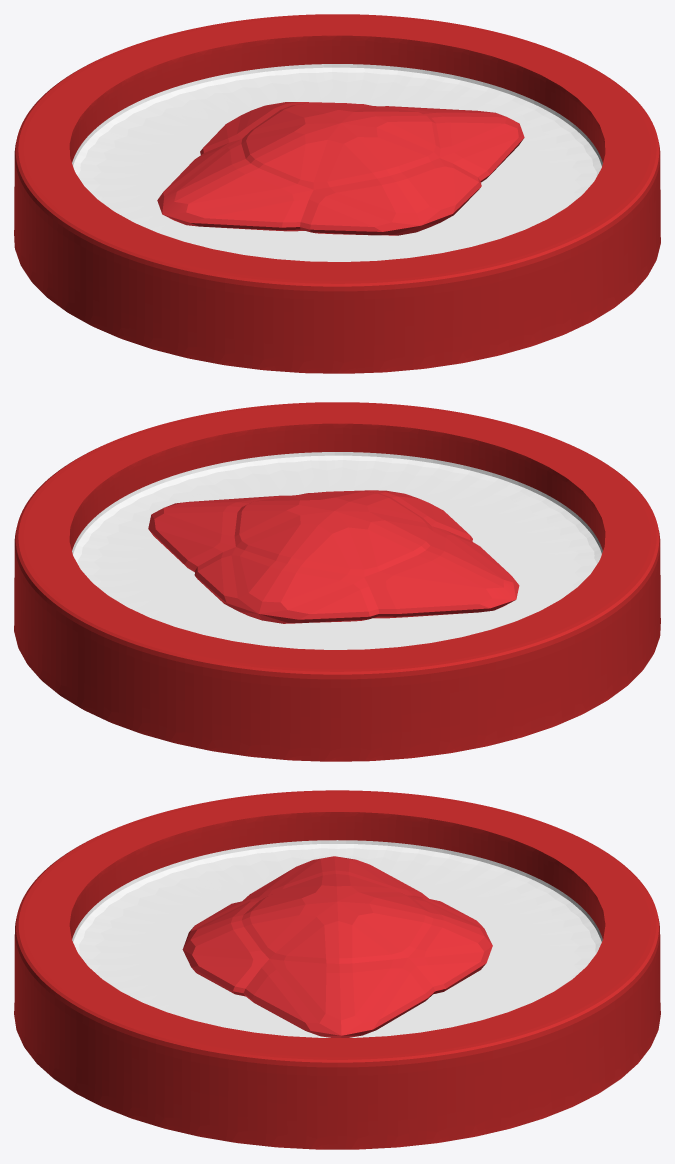
Rendered from RedToken.fbx.
The picture shows the model from 3 angles, top to bottom: view 1: azimuth 30°, elevation 25°; view 2: azimuth 150°, elevation 25°; view 3: azimuth 270°, elevation 25°; orthographic projection.
Visible parts, largest first — view 1: 원형, pCube22; view 2: 원형, pCube22; view 3: 원형, pCube22.
Boxes of the visible parts, bbox=[...] form: 원형: bbox=[14, 14, 660, 373]; pCube22: bbox=[157, 102, 524, 235]; 원형: bbox=[14, 402, 660, 761]; pCube22: bbox=[148, 490, 519, 623]; 원형: bbox=[14, 790, 660, 1149]; pCube22: bbox=[182, 856, 492, 1037].
Size of the model in its own units: 200 by 38.54 by 200.
